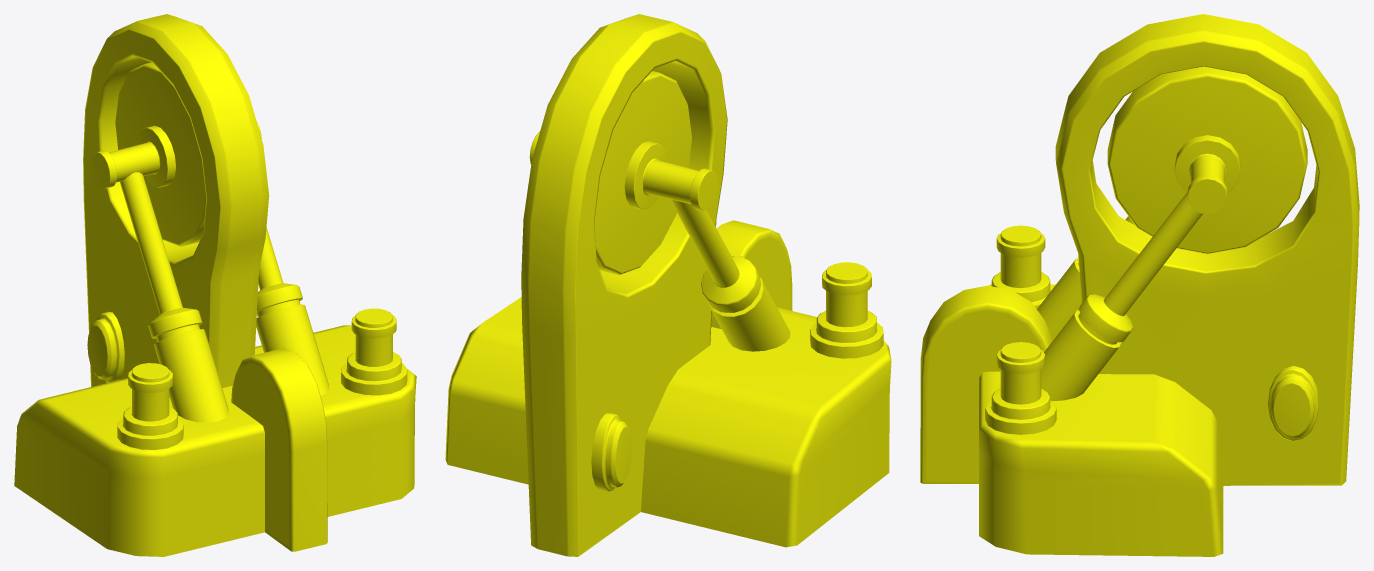
The model's file is geothermal_generator.glb.
The picture shows the model from 3 angles, left to right: view 1: azimuth 30°, elevation 25°; view 2: azimuth 150°, elevation 25°; view 3: azimuth 270°, elevation 25°; orthographic projection. The views are drawn at different scales.
Visible parts, largest first — view 1: Geothermal_generator; view 2: Geothermal_generator; view 3: Geothermal_generator.
Part boxes in pixels (box(x1,y1,x2,y2)): Geothermal_generator: box(14, 14, 416, 556); Geothermal_generator: box(445, 14, 891, 556); Geothermal_generator: box(920, 14, 1359, 556).
Bounding box in the file's own units: 3.3 × 4.22 × 3.71.
1 material, 1 textured.
